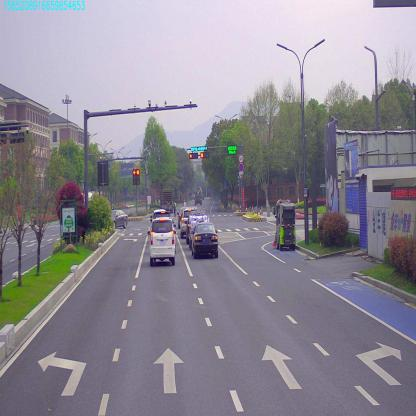traffic-light: (190, 146, 207, 152), (189, 152, 198, 158), (200, 152, 207, 158)
